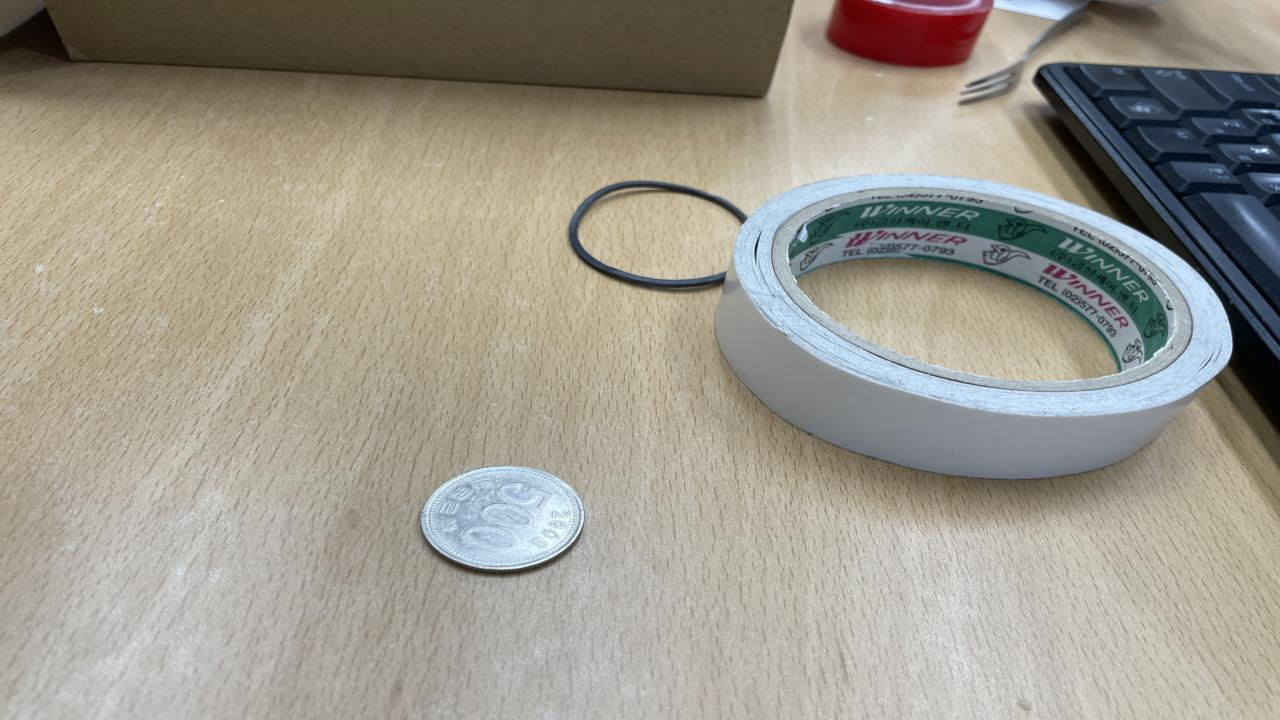coin: (419, 467, 586, 572)
